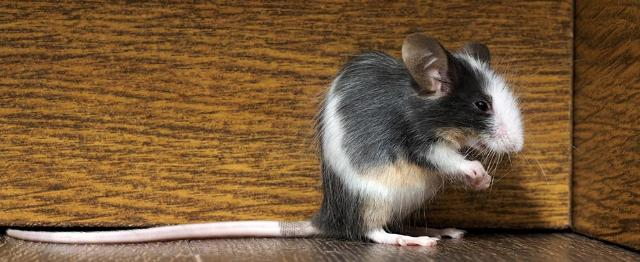rat: (267, 21, 545, 259)
